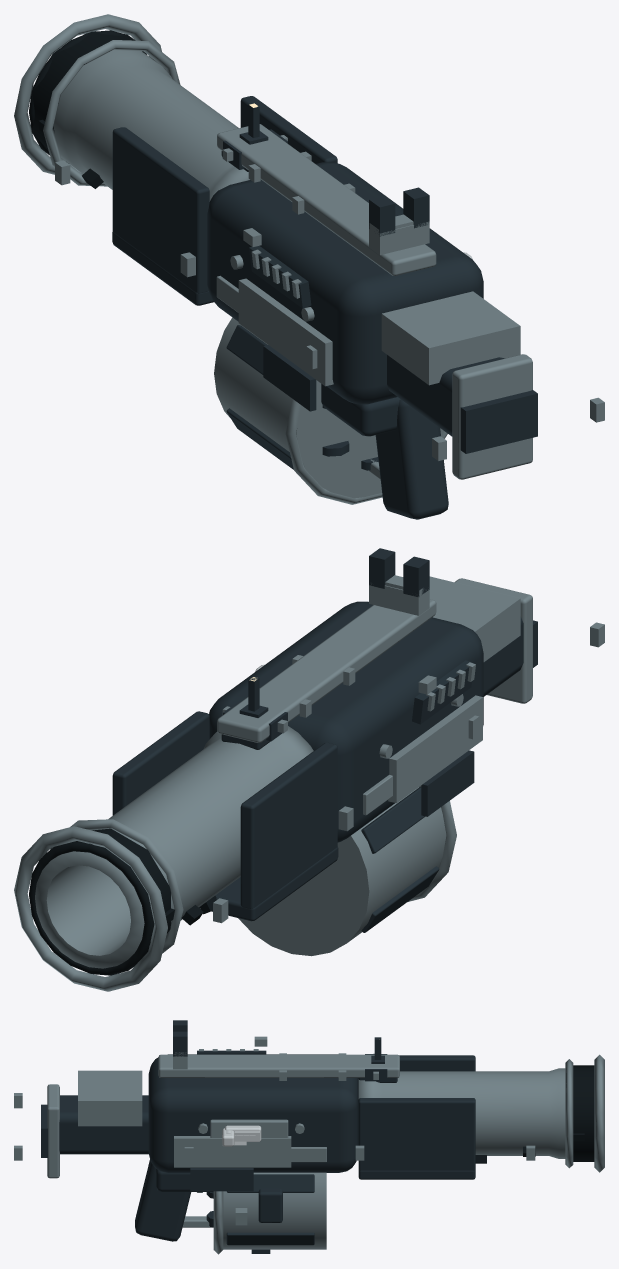
Rendered from weapon-5.glb.
3 renders of one model, top to bottom at view 1: azimuth 30°, elevation 25°; view 2: azimuth 150°, elevation 25°; view 3: azimuth 270°, elevation 25°, orthographic. The views are drawn at different scales.
Visible parts, largest first — view 1: body-dark, body-light, barrel-assembly-light, feed-light, barrel-assembly-cavity, feed-dark; view 2: body-dark, barrel-assembly-light, body-light, feed-light, barrel-assembly-cavity, feed-dark; view 3: body-dark, body-light, barrel-assembly-light, feed-light, feed-dark, barrel-assembly-cavity, bolt-trim.
Part boxes in pixels (x1,y1,x2,y2): body-dark: (112, 96, 537, 519); body-light: (55, 124, 604, 479); barrel-assembly-light: (14, 14, 249, 201); feed-light: (214, 317, 447, 504); barrel-assembly-cavity: (29, 30, 147, 188); feed-dark: (226, 325, 378, 470); body-dark: (112, 548, 537, 921); barrel-assembly-light: (14, 726, 313, 991); body-light: (213, 575, 604, 923); feed-light: (238, 787, 456, 956); barrel-assembly-cavity: (29, 828, 216, 975); feed-dark: (361, 787, 439, 932); body-dark: (41, 1020, 475, 1241); body-light: (14, 1036, 535, 1227); barrel-assembly-light: (358, 1054, 604, 1172); feed-light: (213, 1172, 326, 1254); feed-dark: (206, 1174, 314, 1253); barrel-assembly-cavity: (475, 1065, 594, 1163); bolt-trim: (222, 1125, 261, 1146).
Size of the model in its own units: 0.3185 by 0.5045 by 1.21.
